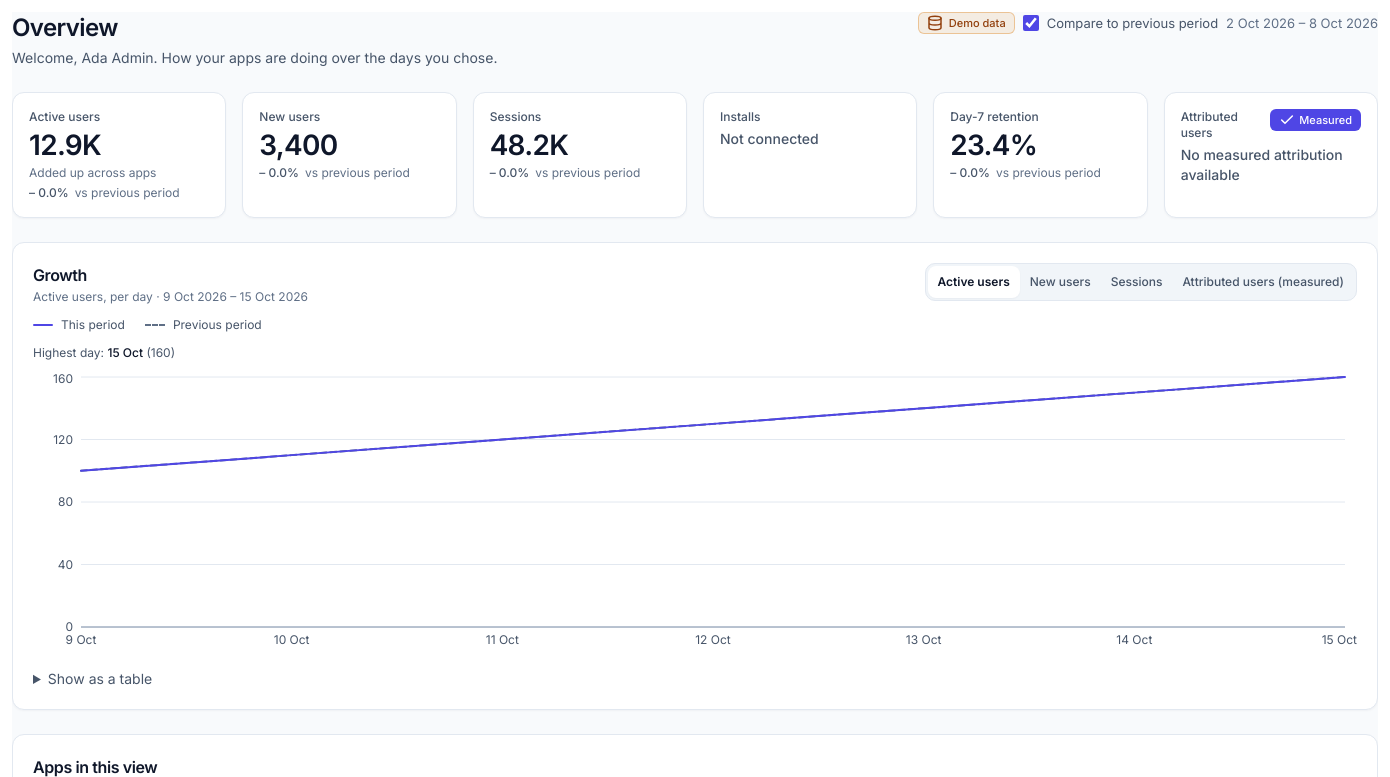
OverviewPage › compare to previous period › is switched on and off with the checkbox
Expected: the heading "Active users" is shown, [29,109,100,125]
Expected: the text "2 Oct 2026 – 8 Oct 2026" is shown, [1226,13,1378,33]
Click the checkbox labelled "Compare to previous period": (1031, 23) [1023,15,1039,31]
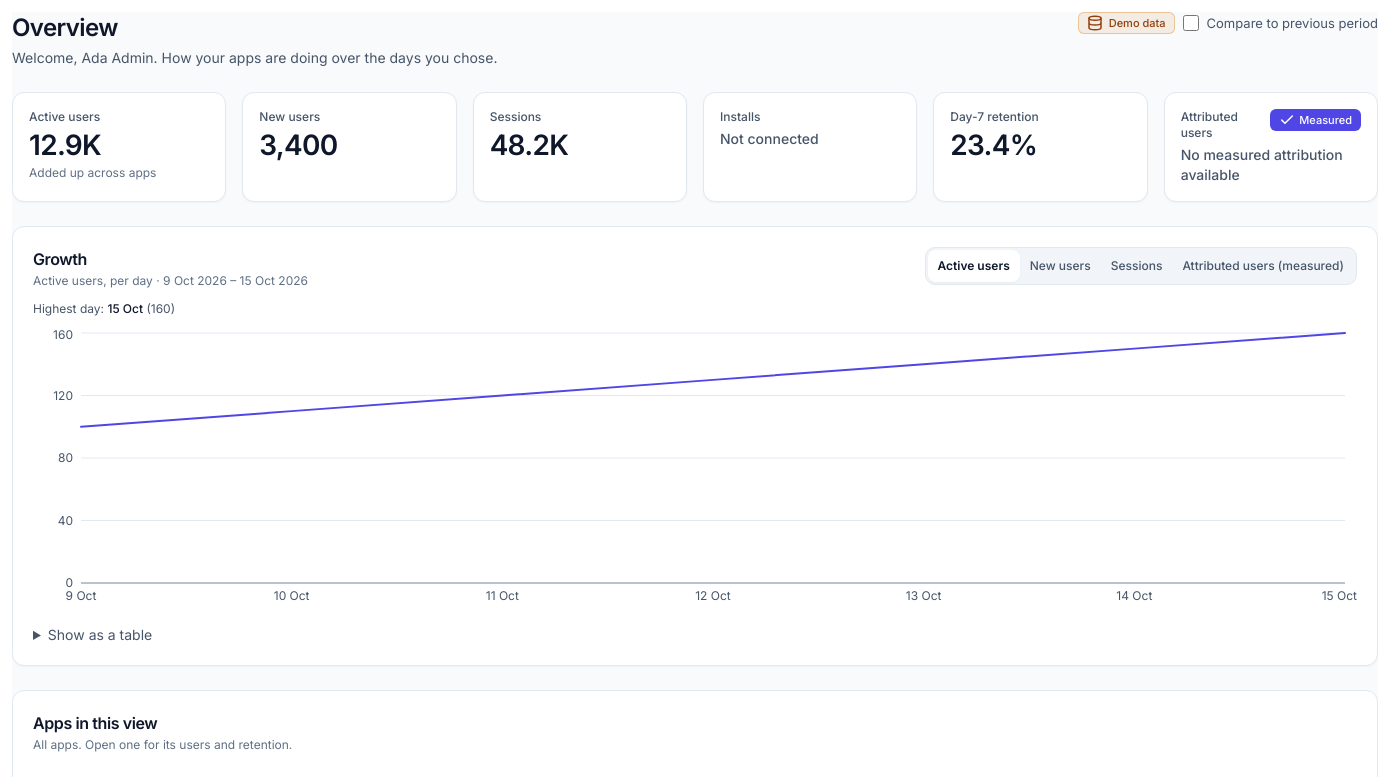
Now the checkbox labelled "Compare to previous period" is not checked, box [1183,15,1199,31]
Now the text "2 Oct 2026 – 8 Oct 2026" is gone
